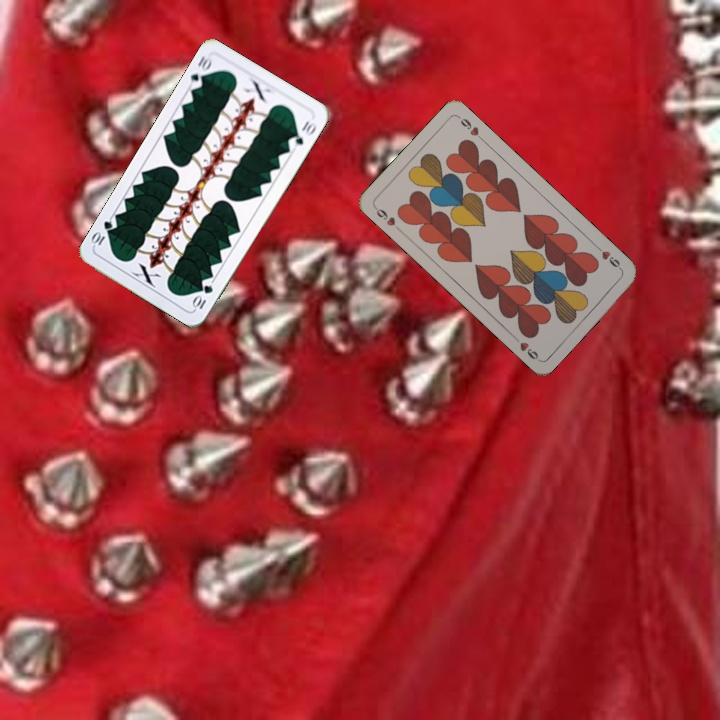G10: (185, 51, 214, 92), (189, 281, 216, 312)
H9: (370, 202, 403, 234), (592, 241, 625, 273)
